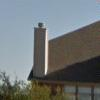Chimney: (26, 13, 58, 82)
